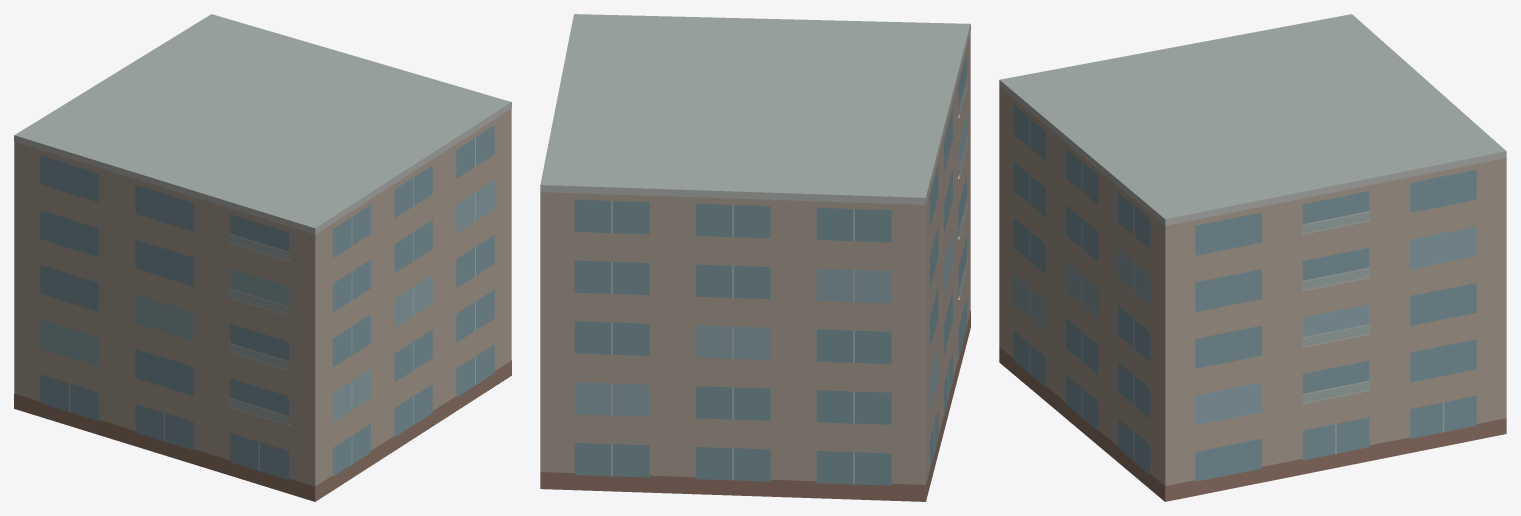
Rendered from survey-upis-32740182.glb.
3 views of the same model, side by side, from view 1: azimuth 30°, elevation 25°; view 2: azimuth 150°, elevation 25°; view 3: azimuth 270°, elevation 25° (orthographic). The views are drawn at different scales.
Parts seen in each view (by area): view 1: survey-upis-32740182.tmp; view 2: survey-upis-32740182.tmp; view 3: survey-upis-32740182.tmp.
Part boxes in pixels (x1,y1,x2,y2): survey-upis-32740182.tmp: [14, 14, 511, 501]; survey-upis-32740182.tmp: [540, 14, 970, 501]; survey-upis-32740182.tmp: [999, 14, 1506, 501].
Size of the model in its own units: 16.21 by 10.4 by 16.93.
